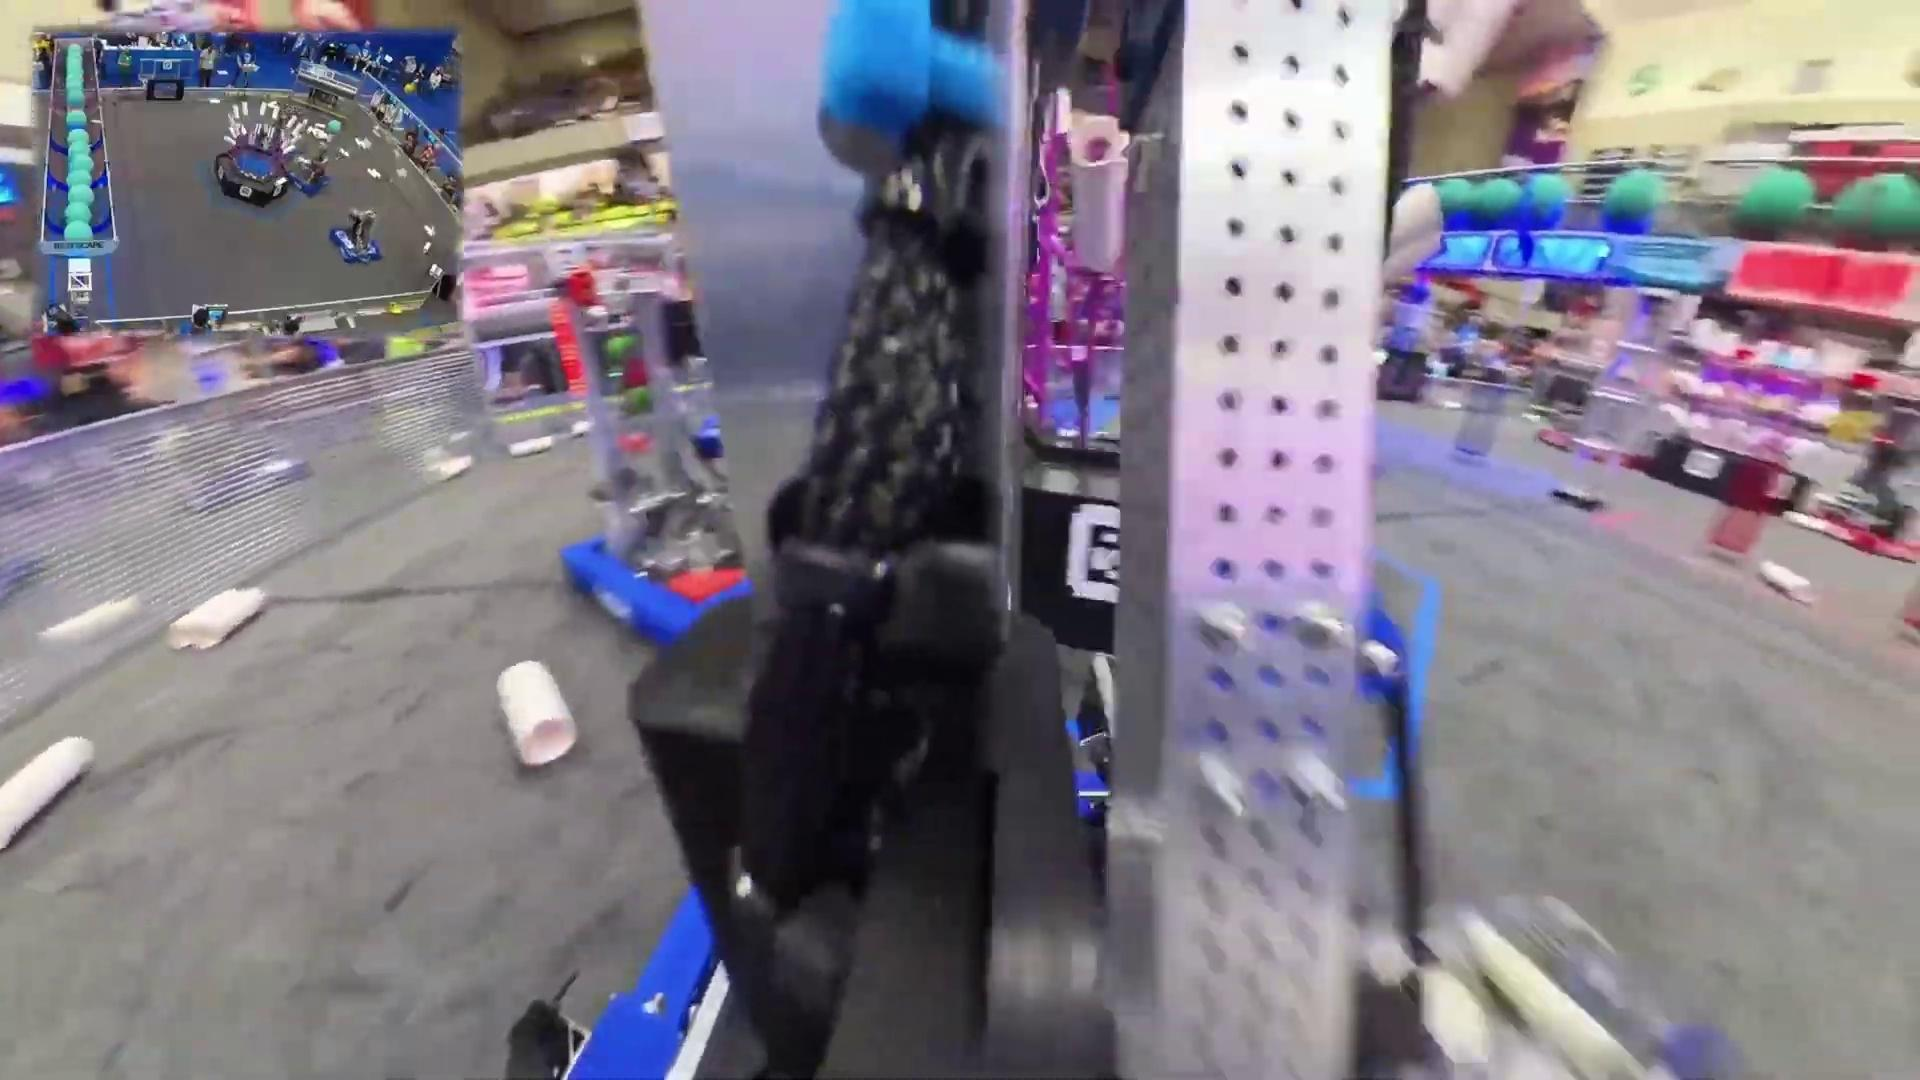robot: (551, 276, 757, 640), (1810, 434, 1918, 561), (1534, 416, 1640, 467), (326, 203, 381, 266), (292, 122, 336, 195)
